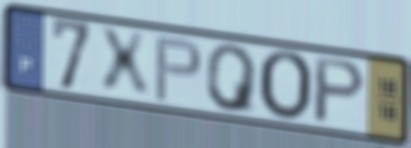7: (49, 15, 93, 95)
O: (256, 48, 316, 125)
P: (310, 54, 369, 127), (152, 34, 205, 105)
Q: (203, 42, 261, 116)
X: (96, 26, 153, 101)
